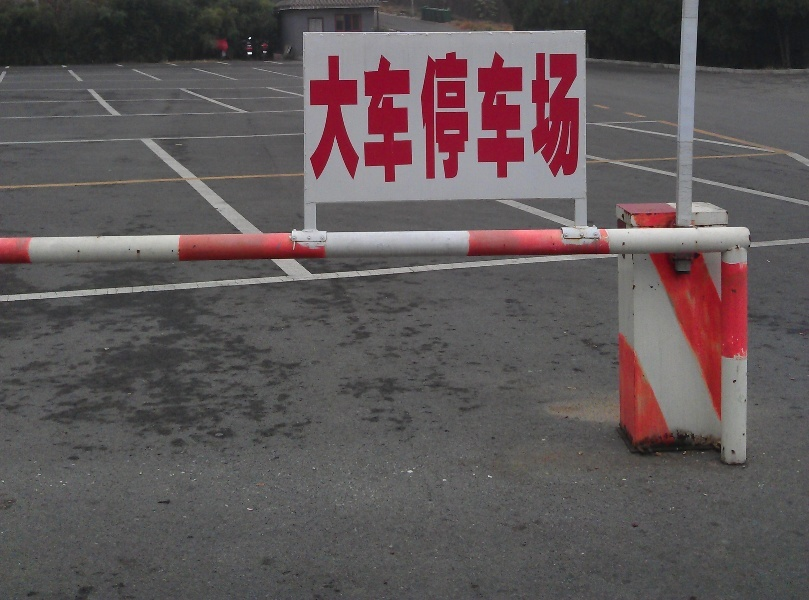text: (321, 51, 336, 182), (337, 51, 352, 182), (353, 51, 368, 182), (369, 51, 384, 182), (385, 51, 400, 182), (401, 51, 416, 182), (417, 51, 432, 182), (433, 51, 448, 182), (449, 51, 464, 182), (465, 51, 480, 182), (481, 51, 496, 182), (497, 51, 512, 182), (513, 51, 528, 182), (529, 51, 544, 182), (545, 51, 560, 182), (561, 51, 576, 182), (309, 51, 320, 182), (577, 51, 581, 182)
